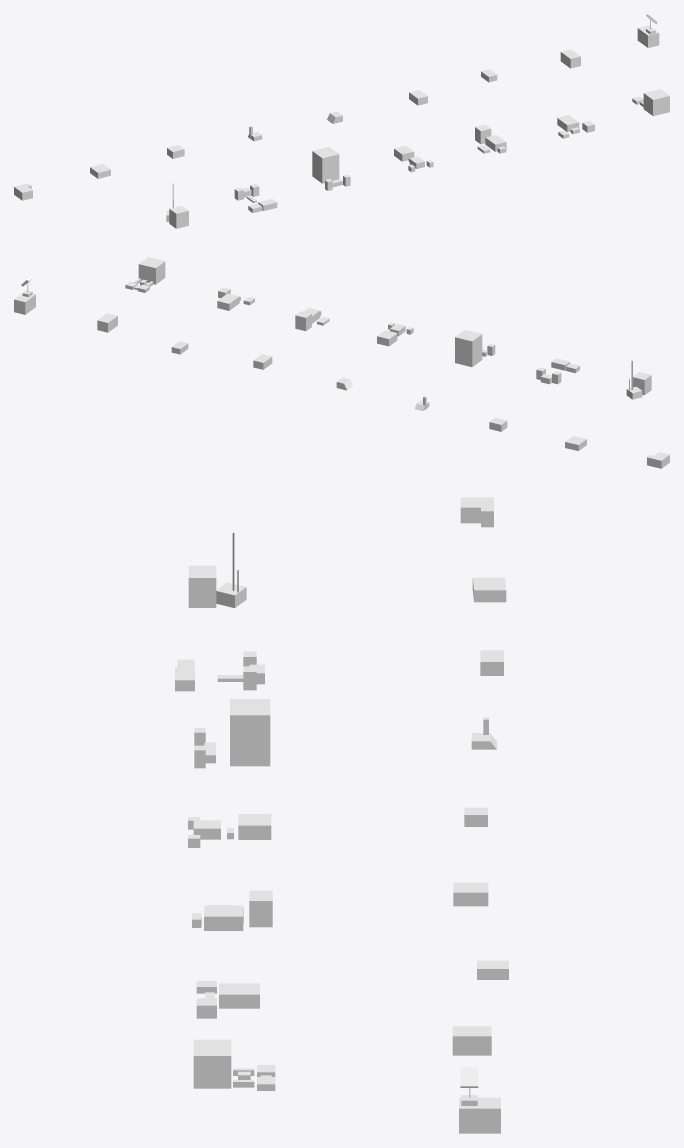
The model's file is buildings_wireframe.fbx.
The picture shows the model from 3 angles, top to bottom: view 1: azimuth 30°, elevation 25°; view 2: azimuth 150°, elevation 25°; view 3: azimuth 270°, elevation 25°; orthographic projection. The views are drawn at different scales.
Visible parts, largest first — view 1: biome_building_containers_map, biome_building_containers_e_map, biome_building_containers_d_map, biome_building_containers_b_map, biome_building_containers_c_map, biome_building_power_station_map, biome_communication_tower_map, biome_building_communication_command_map; view 2: biome_building_containers_map, biome_building_containers_e_map, biome_building_containers_b_map, biome_communication_tower_map, biome_building_containers_d_map, biome_building_power_station_map, biome_building_communication_command_map, biome_building_containers_c_map; view 3: biome_building_containers_map, biome_building_containers_e_map, biome_building_containers_d_map, biome_communication_tower_map, biome_building_communication_command_map, biome_building_containers_c_map, biome_building_power_station_map, biome_building_containers_b_map, biome_building_a_map, biome_building_h_map.
Boxes of the visible parts, box(x1,y1,x2,y2) form: biome_building_containers_map: box(312, 147, 350, 190); biome_building_containers_e_map: box(632, 89, 669, 116); biome_building_containers_d_map: box(475, 124, 506, 153); biome_building_containers_b_map: box(234, 184, 277, 212); biome_building_containers_c_map: box(557, 115, 594, 138); biome_building_power_station_map: box(394, 145, 433, 172); biome_communication_tower_map: box(166, 183, 188, 228); biome_building_communication_command_map: box(637, 14, 659, 47); biome_building_containers_map: box(455, 330, 495, 366); biome_building_containers_e_map: box(125, 257, 165, 292); biome_building_containers_b_map: box(536, 358, 579, 384); biome_communication_tower_map: box(626, 360, 651, 399); biome_building_containers_d_map: box(295, 308, 329, 331); biome_building_power_station_map: box(377, 322, 413, 346); biome_building_communication_command_map: box(14, 276, 35, 314); biome_building_containers_c_map: box(217, 287, 254, 310); biome_building_containers_map: box(194, 699, 270, 768); biome_building_containers_e_map: box(193, 1039, 275, 1090); biome_building_containers_d_map: box(192, 890, 272, 930); biome_communication_tower_map: box(188, 532, 246, 607); biome_building_communication_command_map: box(459, 1067, 500, 1133); biome_building_containers_c_map: box(196, 981, 259, 1018); biome_building_power_station_map: box(188, 814, 271, 847); biome_building_containers_b_map: box(175, 651, 264, 691); biome_building_a_map: box(452, 1026, 491, 1055); biome_building_h_map: box(460, 497, 493, 527).
Bounding box in the file's own units: 9710 × 606 × 2205.
1 material, 1 textured.
